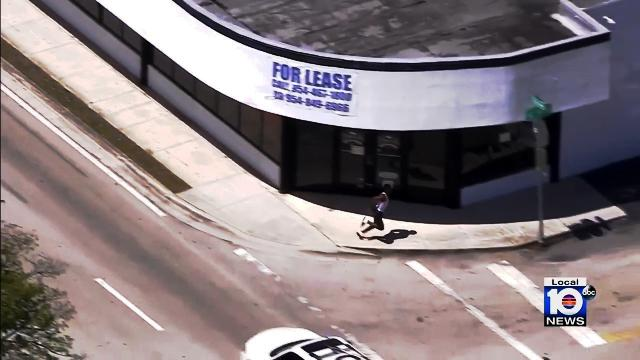berlari: (353, 183, 395, 243)
